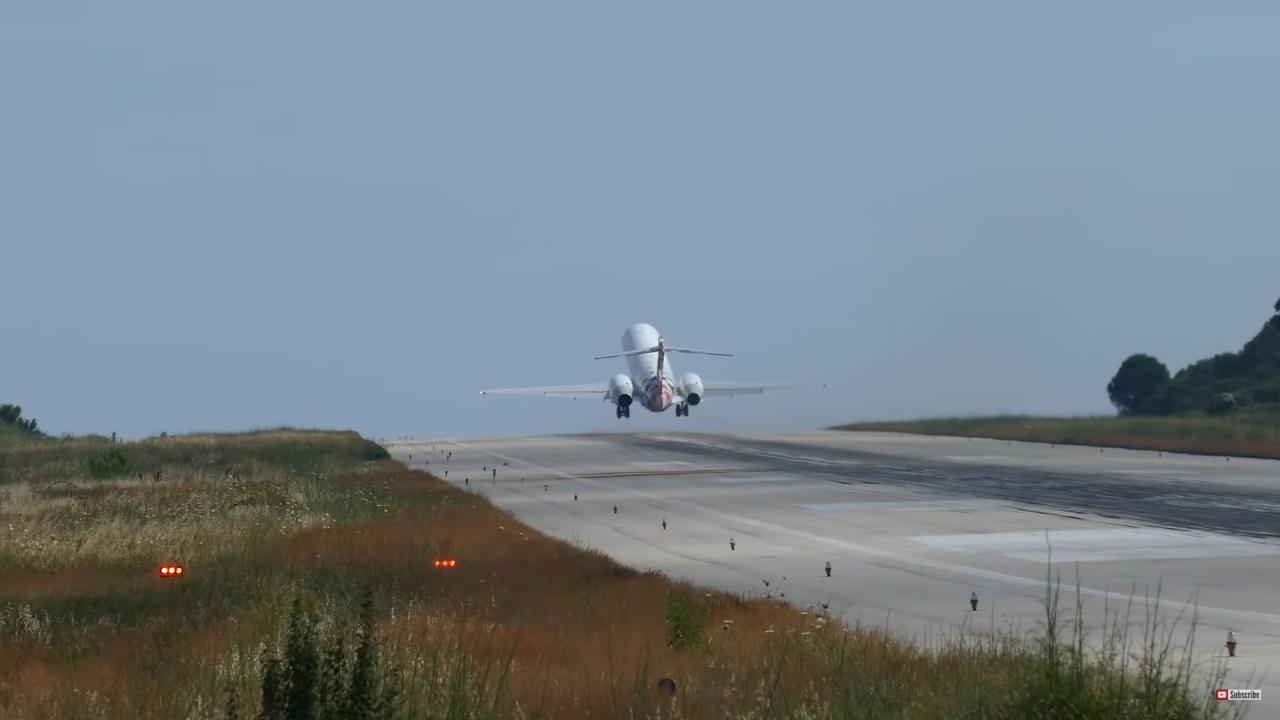Airplane: (458, 307, 830, 436)
